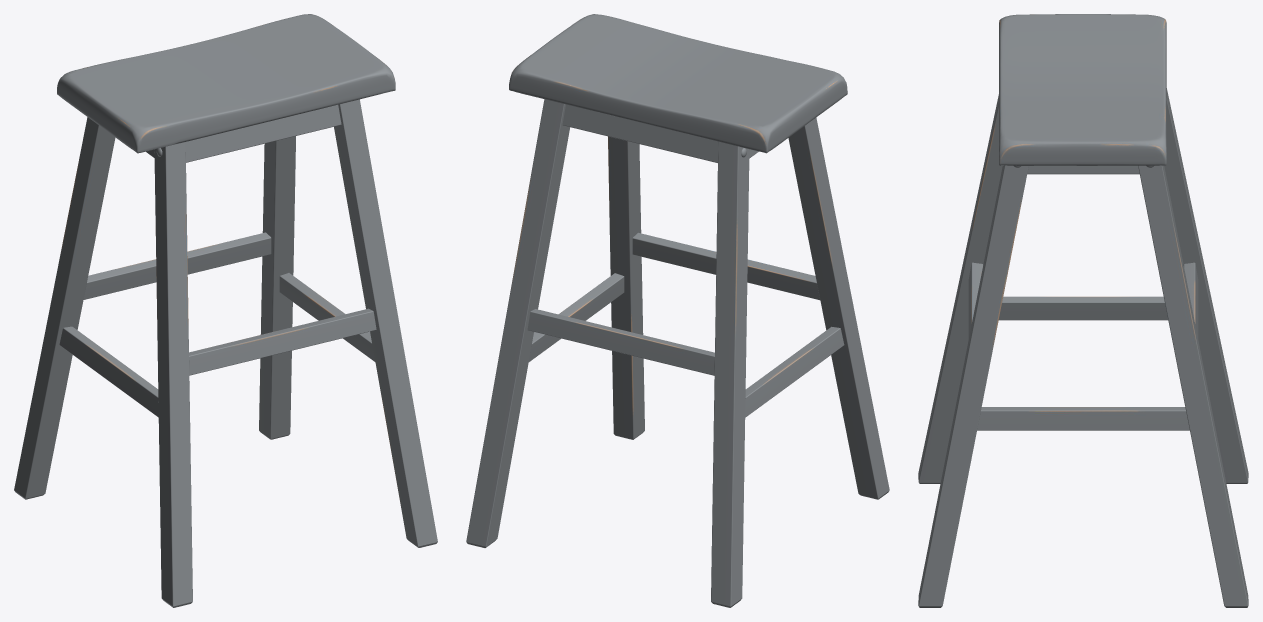
Rendered from stool_B07B7BRXCK.glb.
3 views of the same model, side by side, from view 1: azimuth 30°, elevation 25°; view 2: azimuth 150°, elevation 25°; view 3: azimuth 270°, elevation 25° (orthographic). The views are drawn at different scales.
Visible parts, largest first — view 1: RootNode; view 2: RootNode; view 3: RootNode.
Boxes of the visible parts, box(x1,y1,x2,y2) form: RootNode: box(14, 14, 437, 607); RootNode: box(466, 14, 889, 607); RootNode: box(918, 14, 1248, 607).
Size of the model in its own units: 0.4575 by 0.7374 by 0.4759.
1 material, 1 textured.
